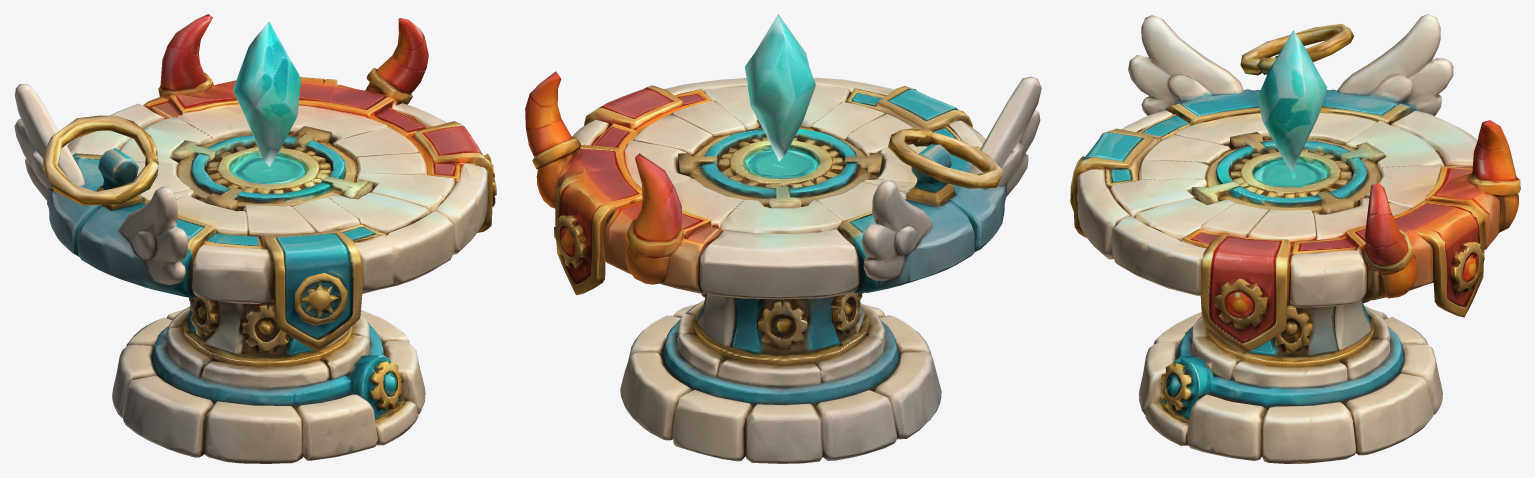
Rendered from X_Altar_HD.glb.
The picture shows the model from 3 angles, left to right: view 1: azimuth 30°, elevation 25°; view 2: azimuth 150°, elevation 25°; view 3: azimuth 270°, elevation 25°; orthographic projection. The views are drawn at different scales.
Visible parts, largest first — view 1: tripo_node_2b5f0dae-65a8-4ec3-a453-499e96c90e8d; view 2: tripo_node_2b5f0dae-65a8-4ec3-a453-499e96c90e8d; view 3: tripo_node_2b5f0dae-65a8-4ec3-a453-499e96c90e8d.
Boxes of the visible parts, x1,y1,x2,y2 form: tripo_node_2b5f0dae-65a8-4ec3-a453-499e96c90e8d: (14, 14, 496, 463); tripo_node_2b5f0dae-65a8-4ec3-a453-499e96c90e8d: (525, 14, 1041, 463); tripo_node_2b5f0dae-65a8-4ec3-a453-499e96c90e8d: (1070, 14, 1520, 463).
Size of the model in its own units: 0.9805 by 0.8533 by 0.9319.
Materials: 1 (1 with a texture image).
